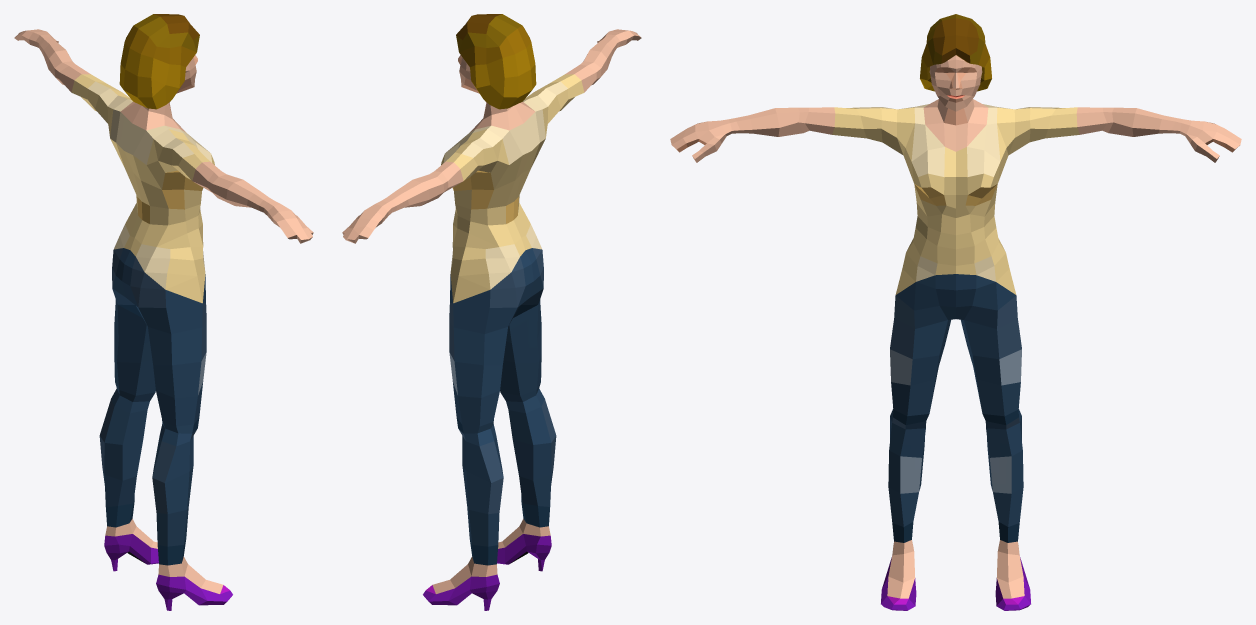
Rendered from lp_female.glb.
The picture shows the model from 3 angles, left to right: view 1: azimuth 30°, elevation 25°; view 2: azimuth 150°, elevation 25°; view 3: azimuth 270°, elevation 25°; orthographic projection.
Visible parts, largest first — view 1: lpFemale_casual_G; view 2: lpFemale_casual_G; view 3: lpFemale_casual_G.
Boxes of the visible parts, left/top/right/bottom form: lpFemale_casual_G: left=14, top=14, right=313, bottom=610; lpFemale_casual_G: left=342, top=14, right=641, bottom=610; lpFemale_casual_G: left=670, top=14, right=1241, bottom=610.
Bounding box in the file's own units: 25.34 × 172 × 155.
Materials: 1 (1 with a texture image).
